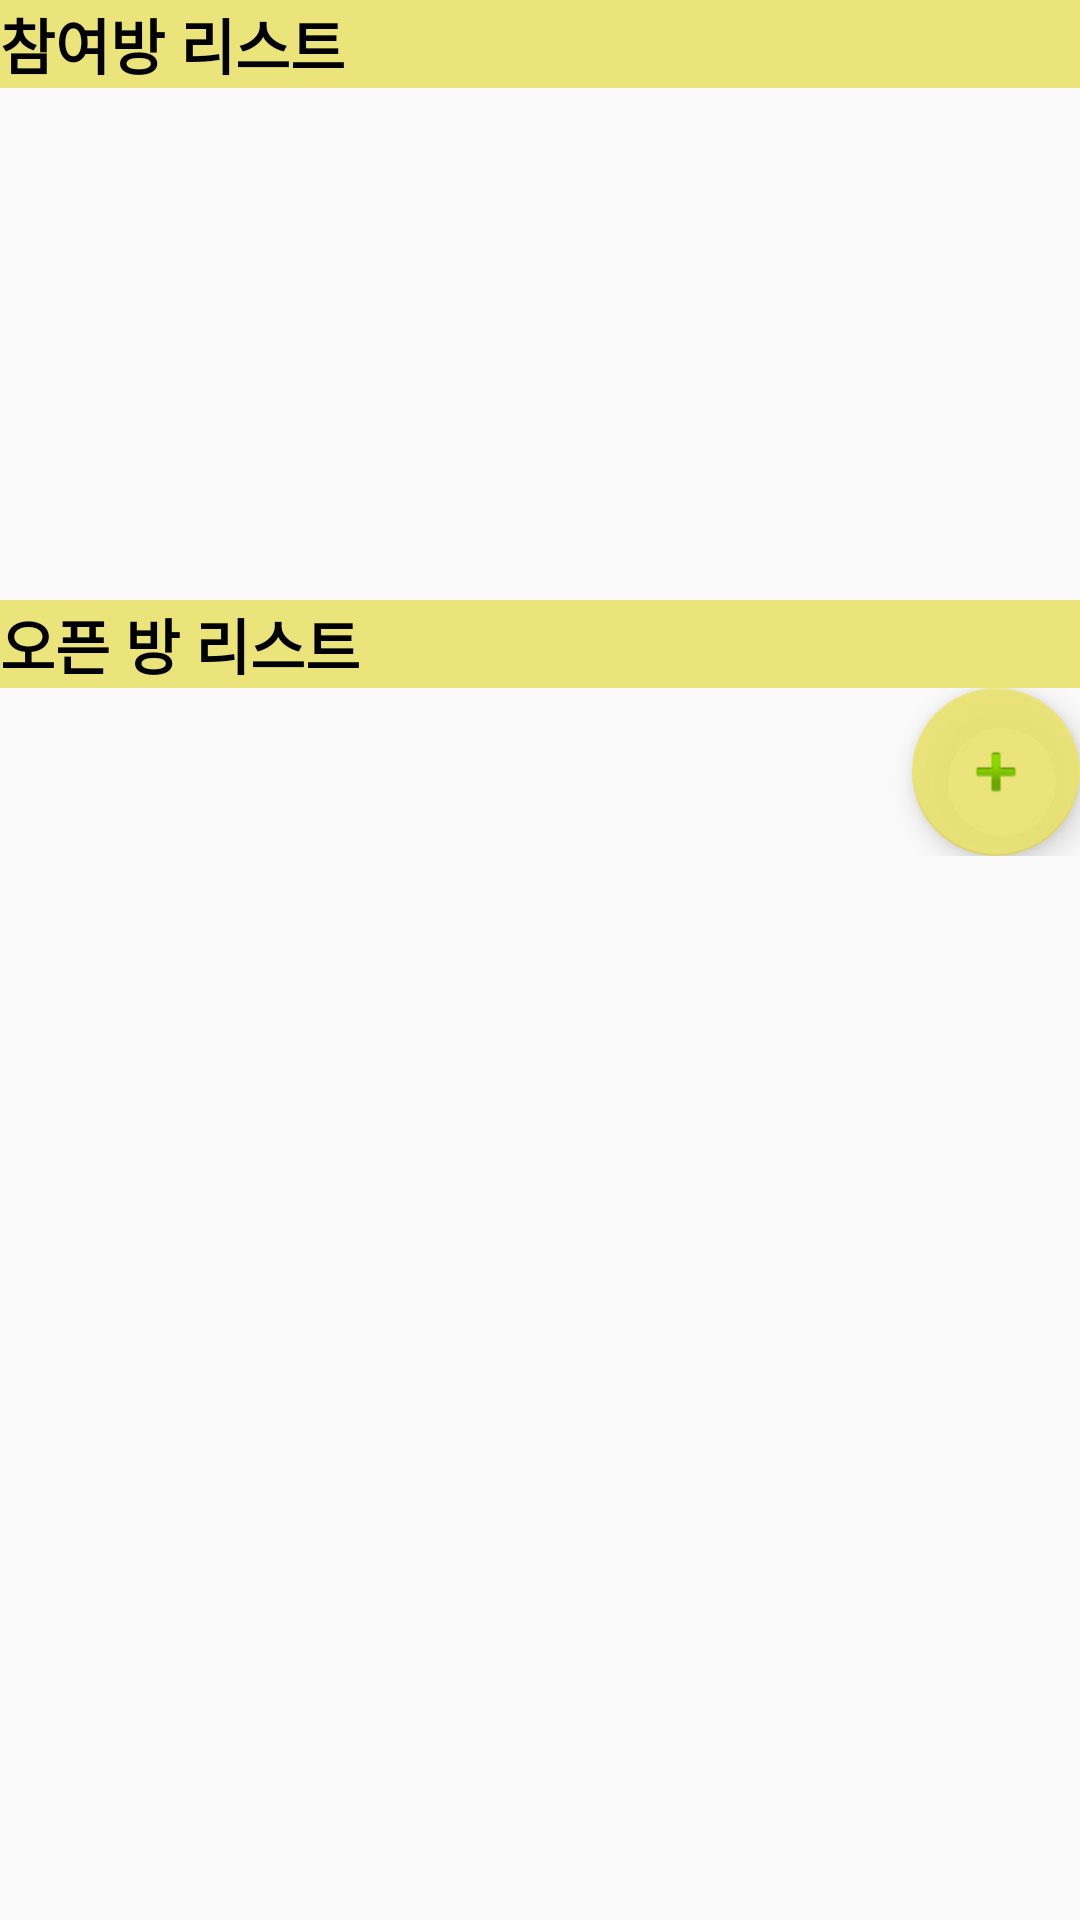

Locate icon controls on the screen. Image size 1080*1920, boxes as bbox=[x1, y1, x2, y2].
add: bbox=[912, 688, 1080, 856]
